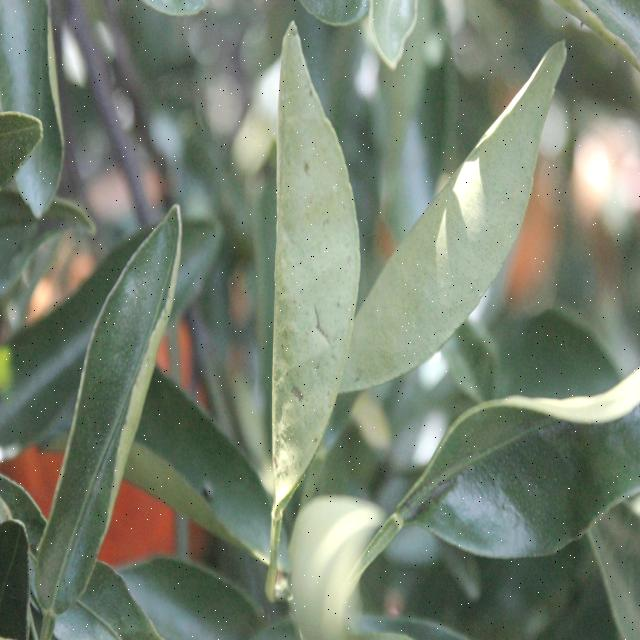melanose: (267, 38, 344, 494)
